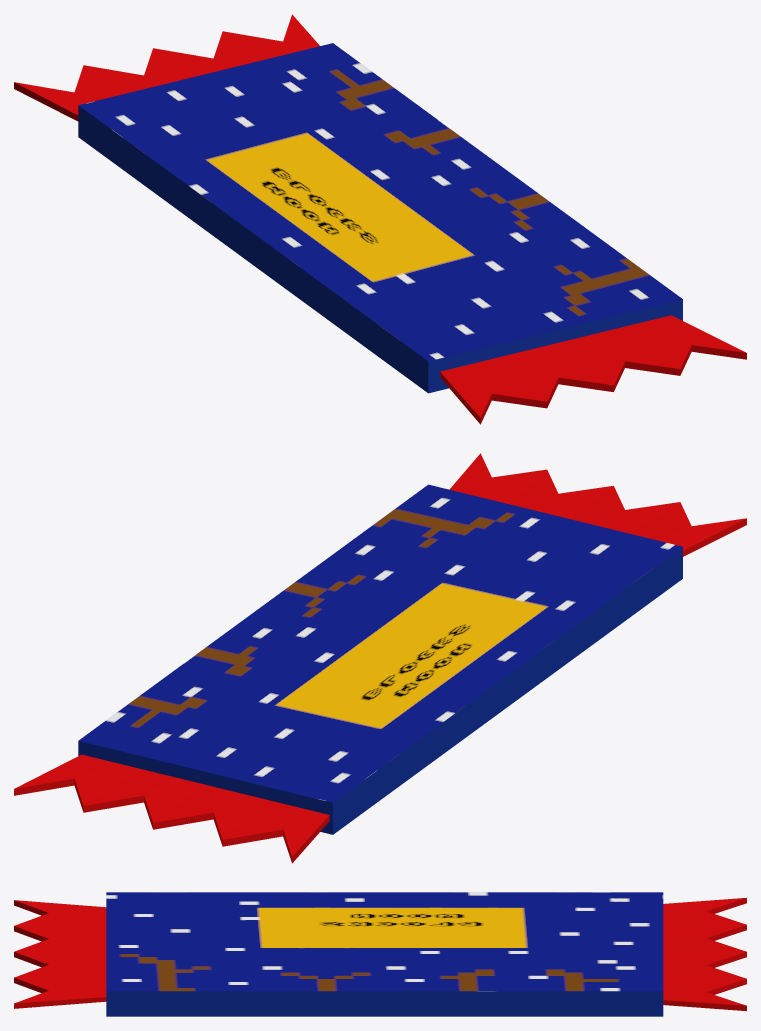
The model's file is Moon block bar.fbx.
3 renders of one model, top to bottom at view 1: azimuth 30°, elevation 25°; view 2: azimuth 150°, elevation 25°; view 3: azimuth 270°, elevation 25°, orthographic. The views are drawn at different scales.
Visible parts, largest first — view 1: Cube; view 2: Cube; view 3: Cube.
Part boxes in pixels (box(x1,y1,x2,y2)): Cube: box(14, 14, 746, 424); Cube: box(14, 453, 746, 863); Cube: box(14, 892, 746, 1016).
Bounding box in the file's own units: 727 × 79.95 × 2087.
